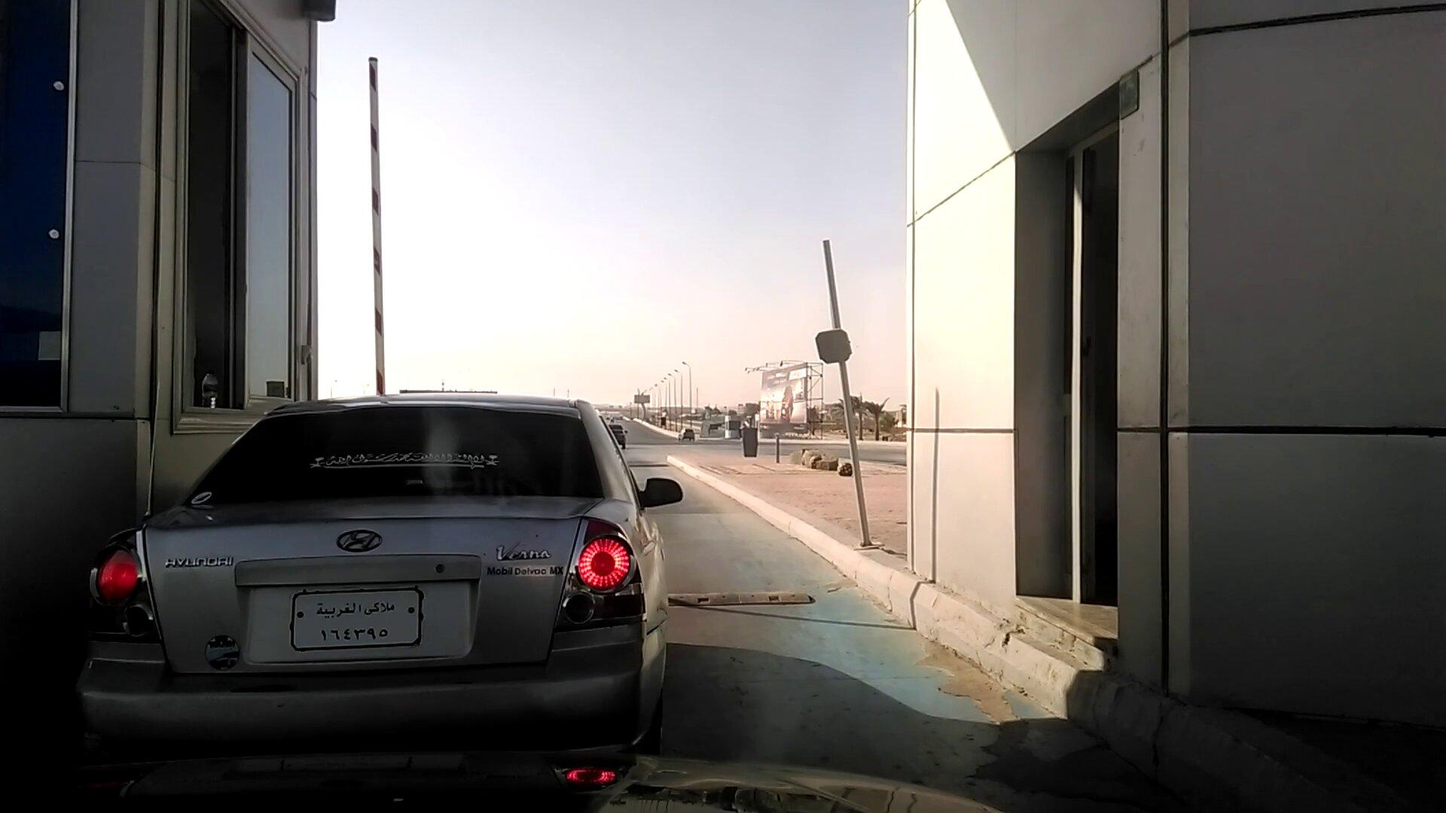Bump: (665, 589, 818, 607)
